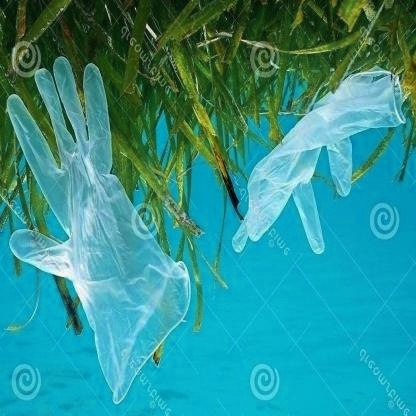glove: (6, 55, 192, 408), (236, 70, 404, 269)
